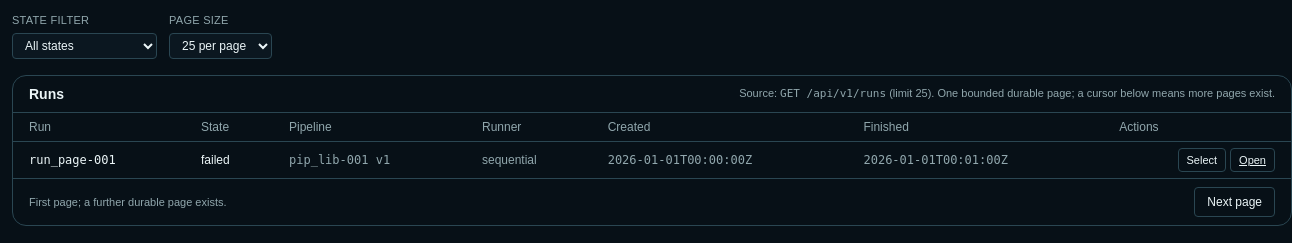
Scenario: RunList › filters by state through the URL and resets the cursor
Expected: the row with test id "run-row-run_page-001" is shown, x1=13 y1=141 x2=1291 y2=178
Select "failed" in the dropdown with test id "runs-state-filter": (84, 46) x1=12 y1=32 x2=157 y2=58
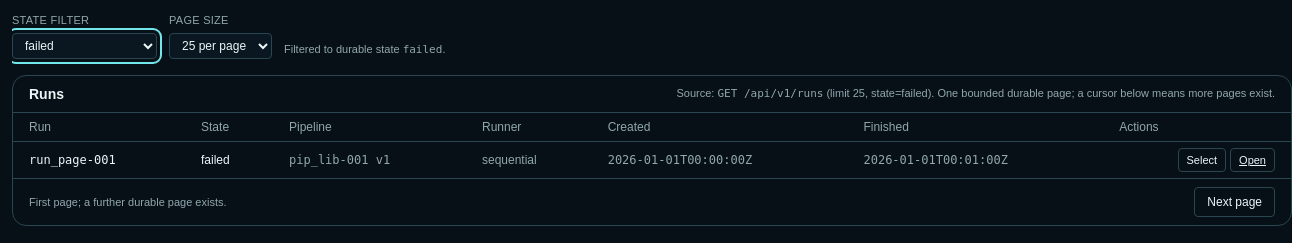
Now the message shows "Filtered to durable state", box x1=284 y1=43 x2=403 y2=55
